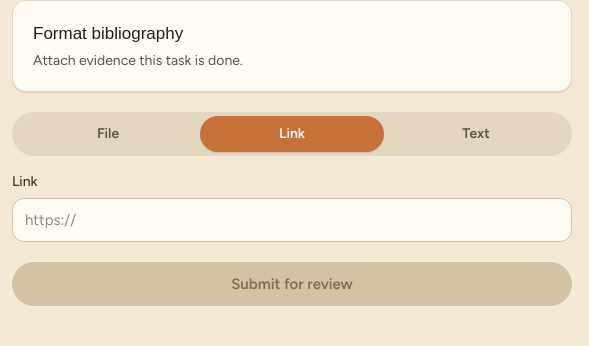
Test case: submit proof page › clears the validation error as soon as the user edits the field
Type "not a link" into the field labelled "Link". click: [292, 220]
box: x1=12 y1=198 x2=572 y2=242
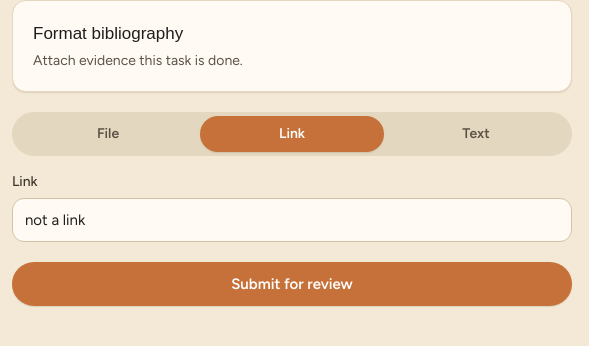
Click the button "Submit for review". click: [292, 284]
box: x1=12 y1=262 x2=572 y2=306
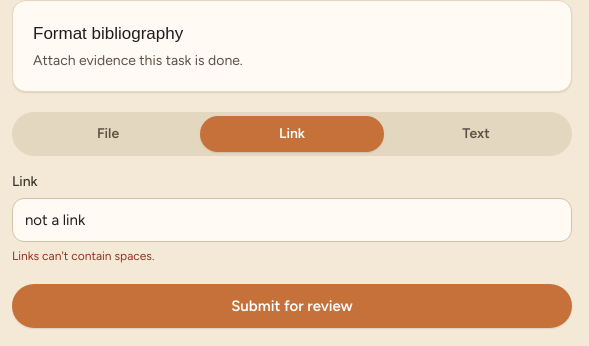
Now the message "Links can't contain spaces." is shown, box x1=12 y1=249 x2=154 y2=263
Replace the text in the field labelled "Link" with "notalink.com". click: [292, 220]
box: x1=12 y1=198 x2=572 y2=242
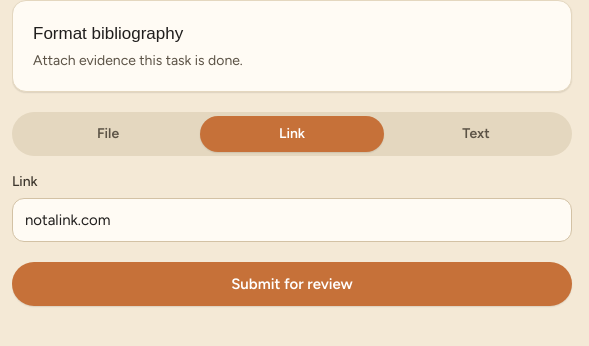
Now the message "Links can't contain spaces." is gone
